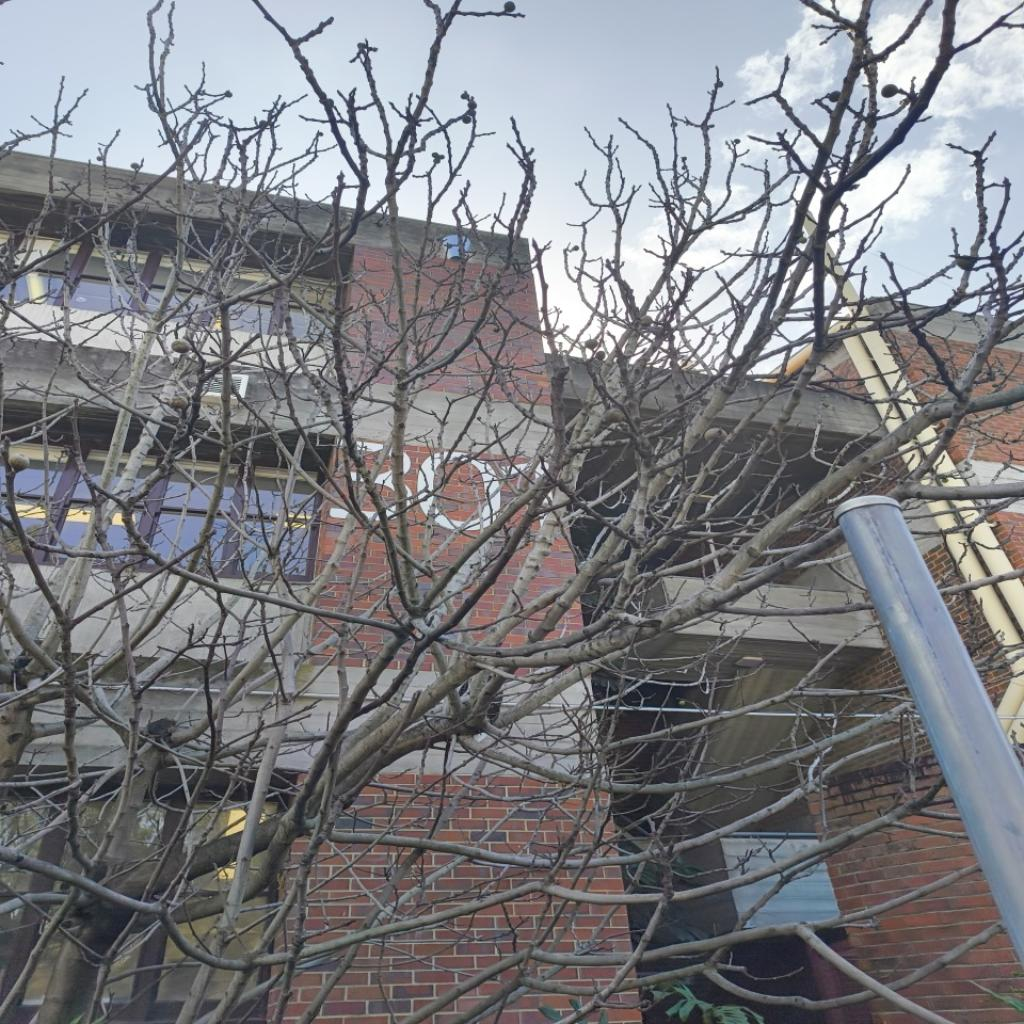BuildingCodes: (327, 428, 567, 544)
